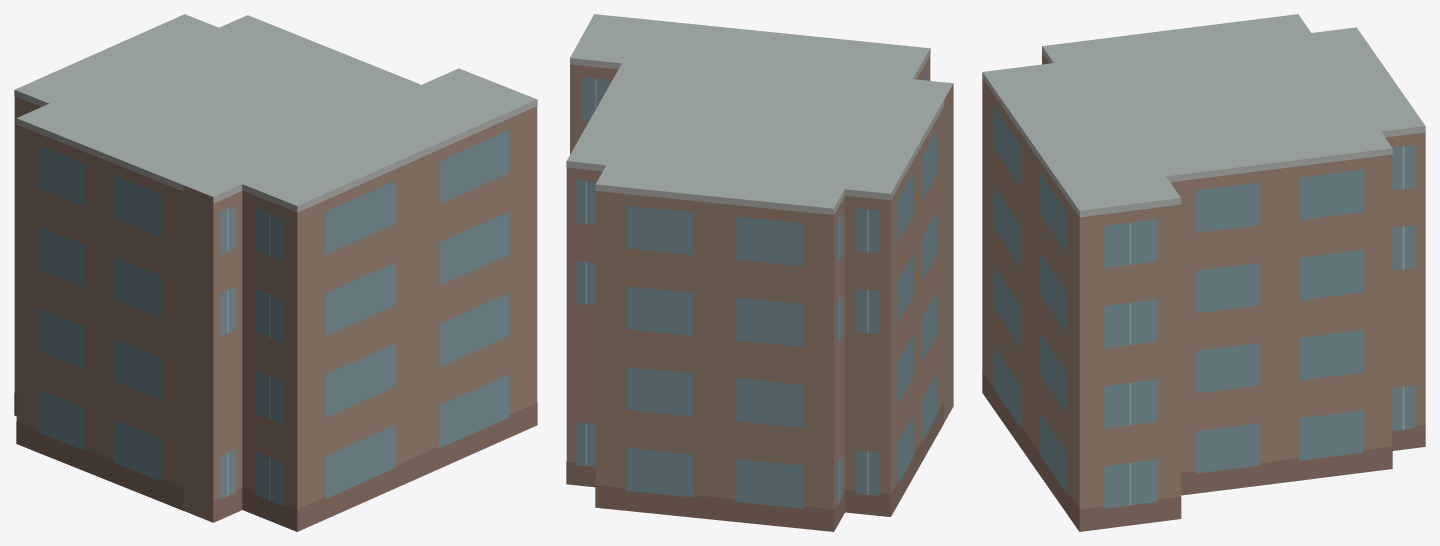
File: survey-upis-32862384.glb
The picture shows the model from 3 angles, left to right: view 1: azimuth 30°, elevation 25°; view 2: azimuth 150°, elevation 25°; view 3: azimuth 270°, elevation 25°; orthographic projection.
Parts seen in each view (by area): view 1: survey-upis-32862384.tmp; view 2: survey-upis-32862384.tmp; view 3: survey-upis-32862384.tmp.
Boxes of the visible parts, bbox=[...] form: survey-upis-32862384.tmp: bbox=[14, 14, 537, 531]; survey-upis-32862384.tmp: bbox=[566, 14, 953, 531]; survey-upis-32862384.tmp: bbox=[982, 14, 1425, 531].
Bounding box in the file's own units: 16.08 × 12.2 × 15.29.
